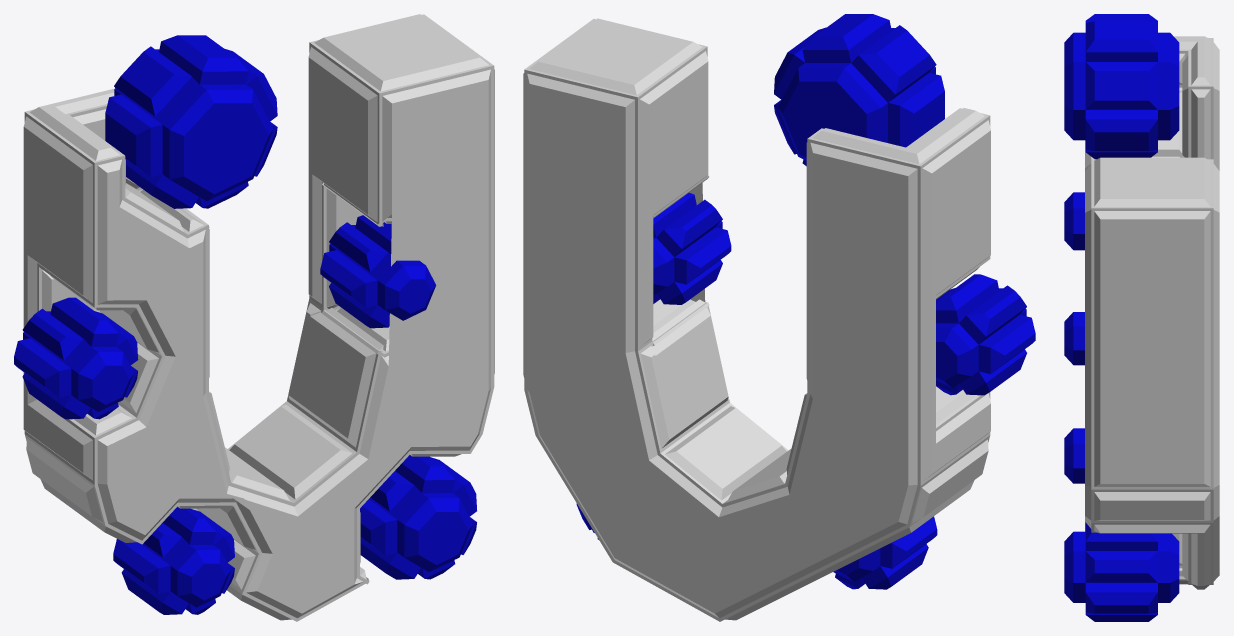
3 renders of one model, left to right at view 1: azimuth 30°, elevation 25°; view 2: azimuth 150°, elevation 25°; view 3: azimuth 270°, elevation 25°, orthographic. The views are drawn at different scales.
Visible parts, largest first — view 1: sphere1; view 2: sphere1; view 3: sphere1.
Part boxes in pixels (x1,y1,x2,y2): sphere1: (14,14,494,621); sphere1: (523,14,1035,621); sphere1: (1064,14,1219,621).
Bounding box in the file's own units: 0.7466 × 0.924 × 0.2541.
